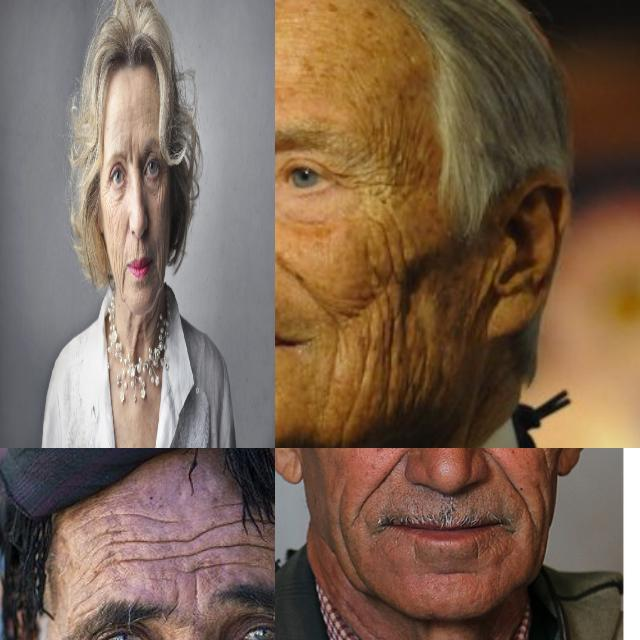chin: (430, 560, 476, 584)
crows_feet: (336, 158, 406, 206), (159, 167, 167, 194), (102, 178, 111, 198)
forehead: (144, 524, 193, 566), (208, 536, 275, 566), (211, 507, 275, 537), (94, 528, 128, 570), (113, 120, 122, 141)
frown_line: (183, 578, 207, 616), (130, 144, 135, 166)
gummy_smile: (358, 453, 406, 505), (493, 461, 533, 511), (275, 251, 317, 294)
masseter: (356, 326, 404, 398), (366, 244, 414, 312), (333, 516, 363, 578), (111, 249, 123, 286), (158, 241, 166, 281), (158, 201, 166, 228), (107, 206, 113, 239)
smoker_lines: (130, 244, 150, 256)
